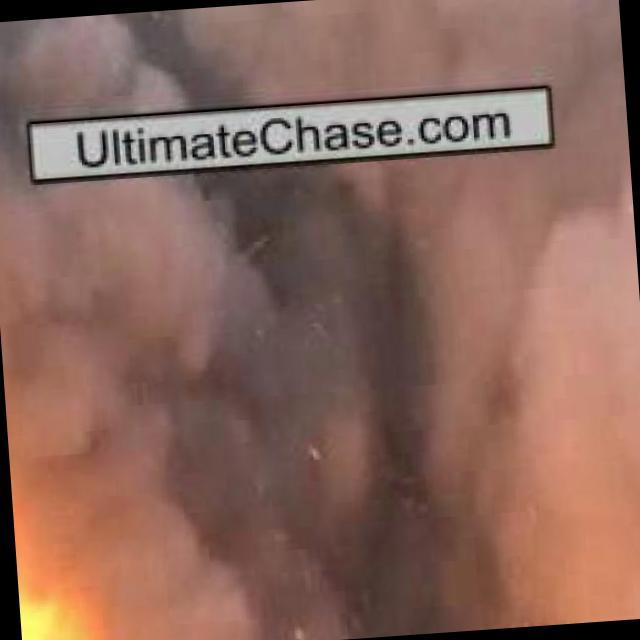Fire: (7, 410, 119, 640)
